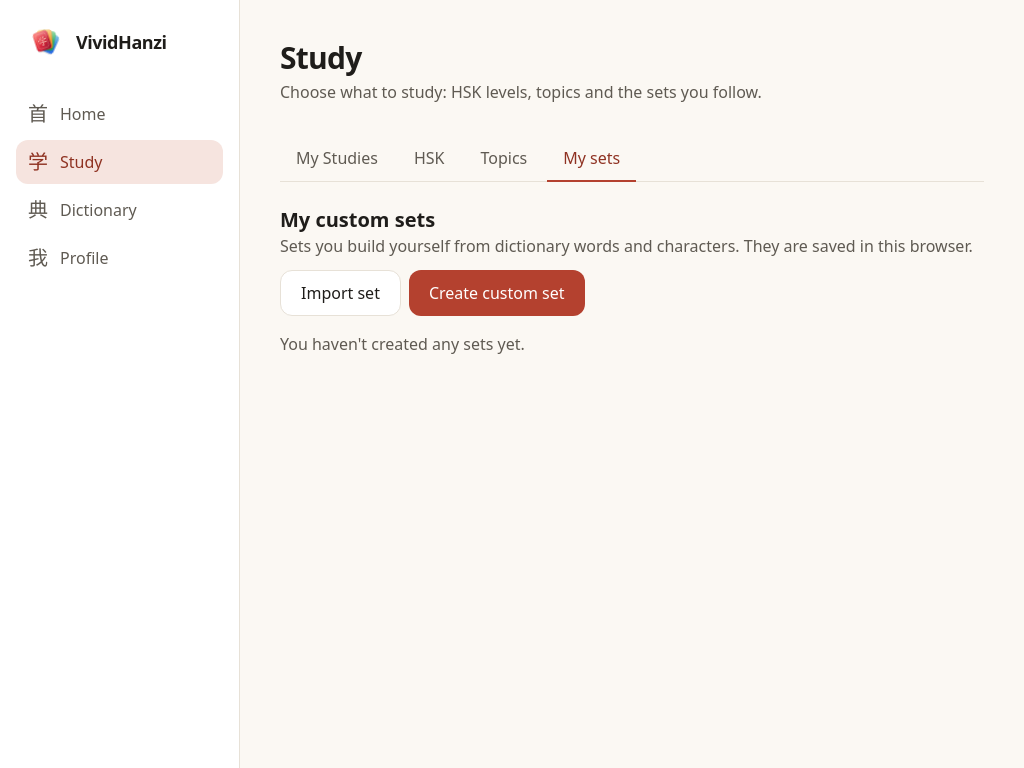
Test: Custom sets › does not allow adding the same item twice
Click the link "Create custom set" at (497, 293), box [409,270,584,316]
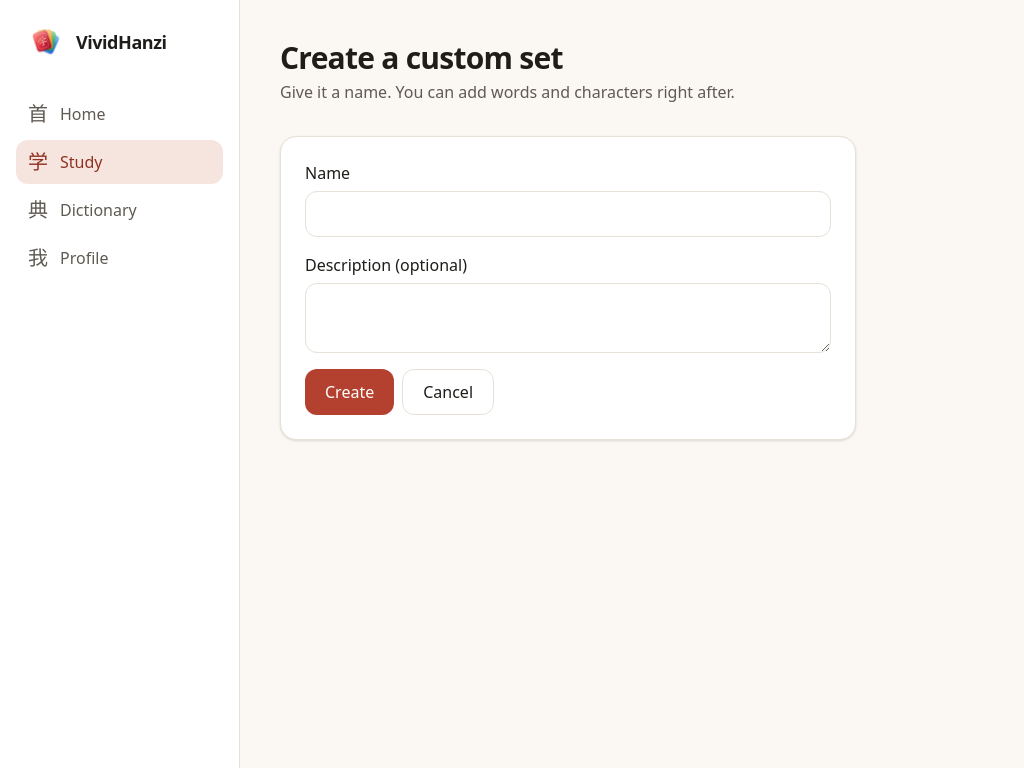
Type "Mine" into the field labelled "Name" at (568, 214), box [305,191,831,237]
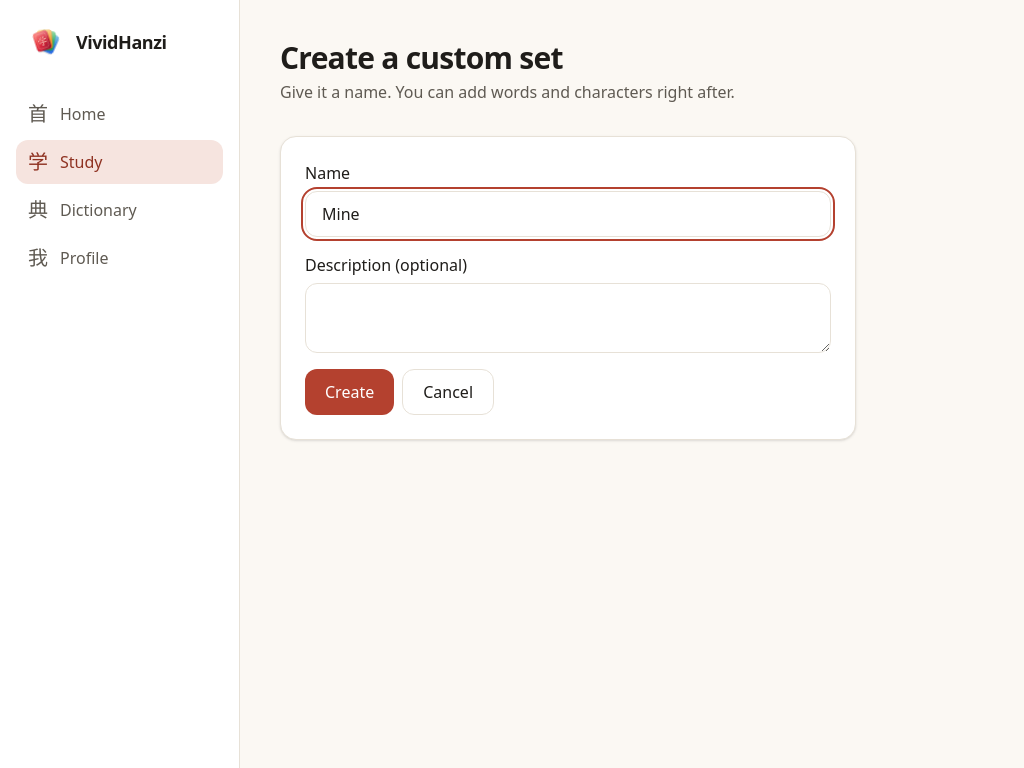
Click the button "Create" at (350, 392), box [305,369,394,415]
(page scrolled)
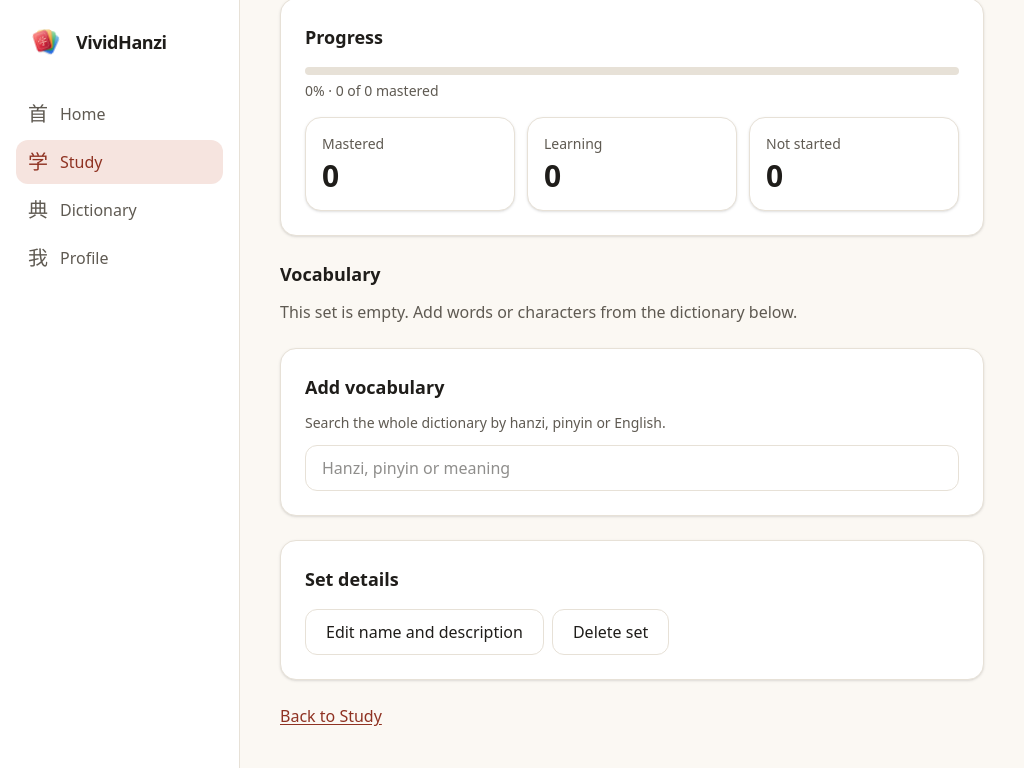
Type "apple" into the search field named "Search" at (632, 468), box [305,445,959,491]
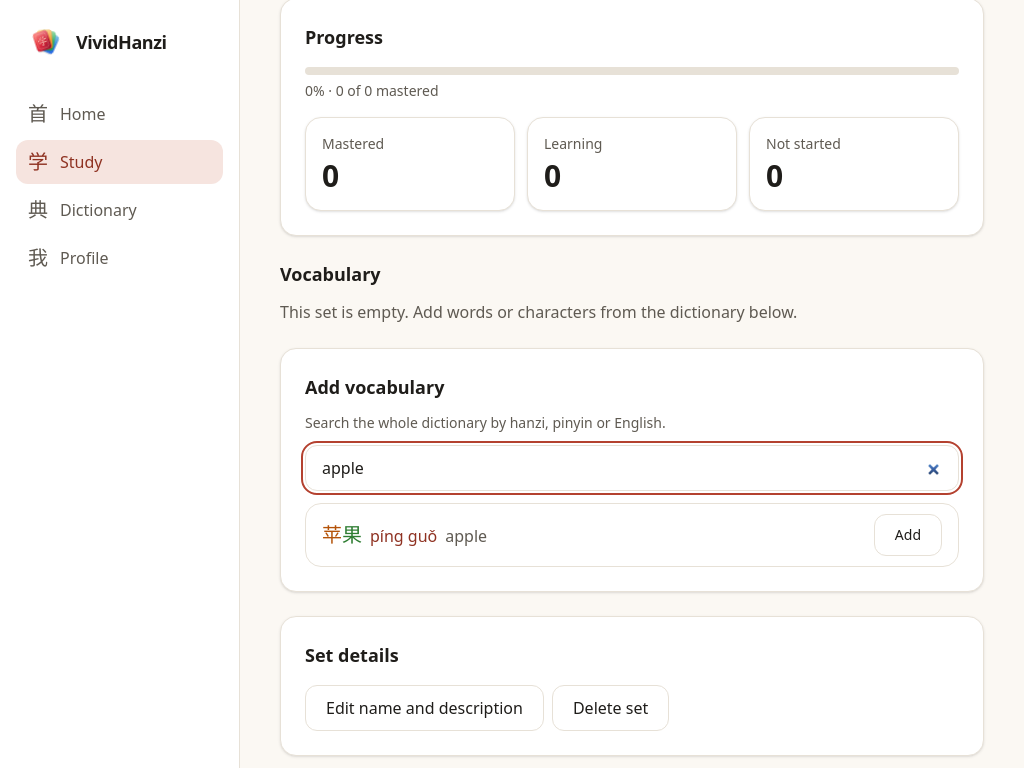
Click the button "Add" at (908, 535), box [874,514,942,556]
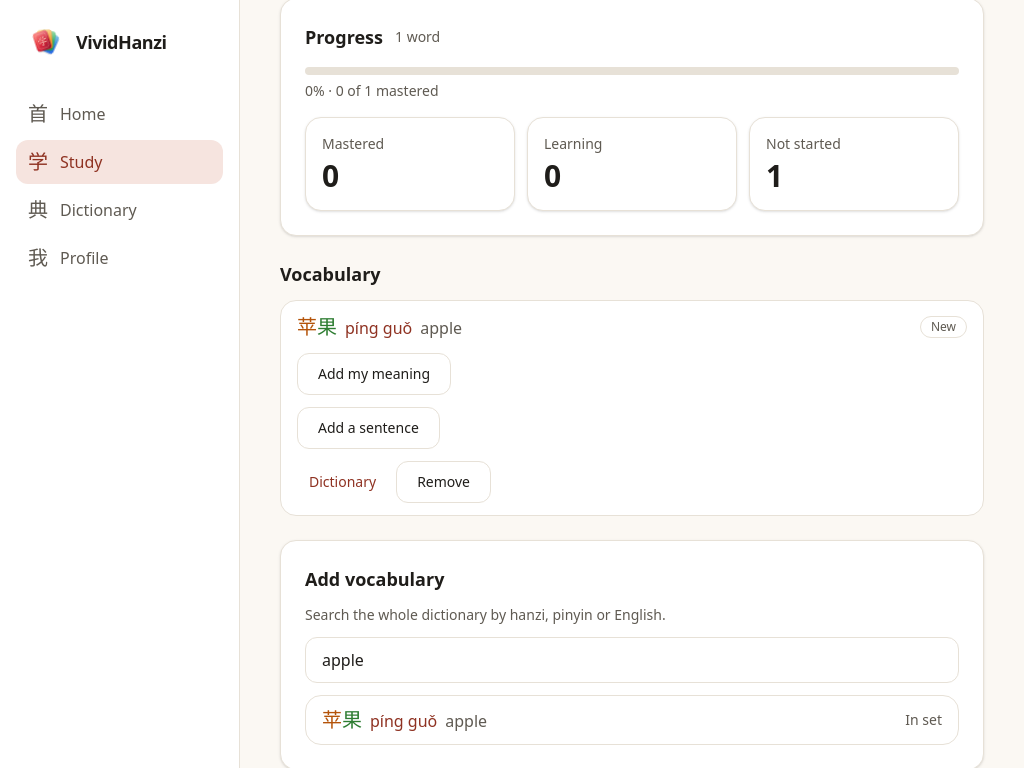
Check: the text "In set" is shown, box [905,710,942,730]
